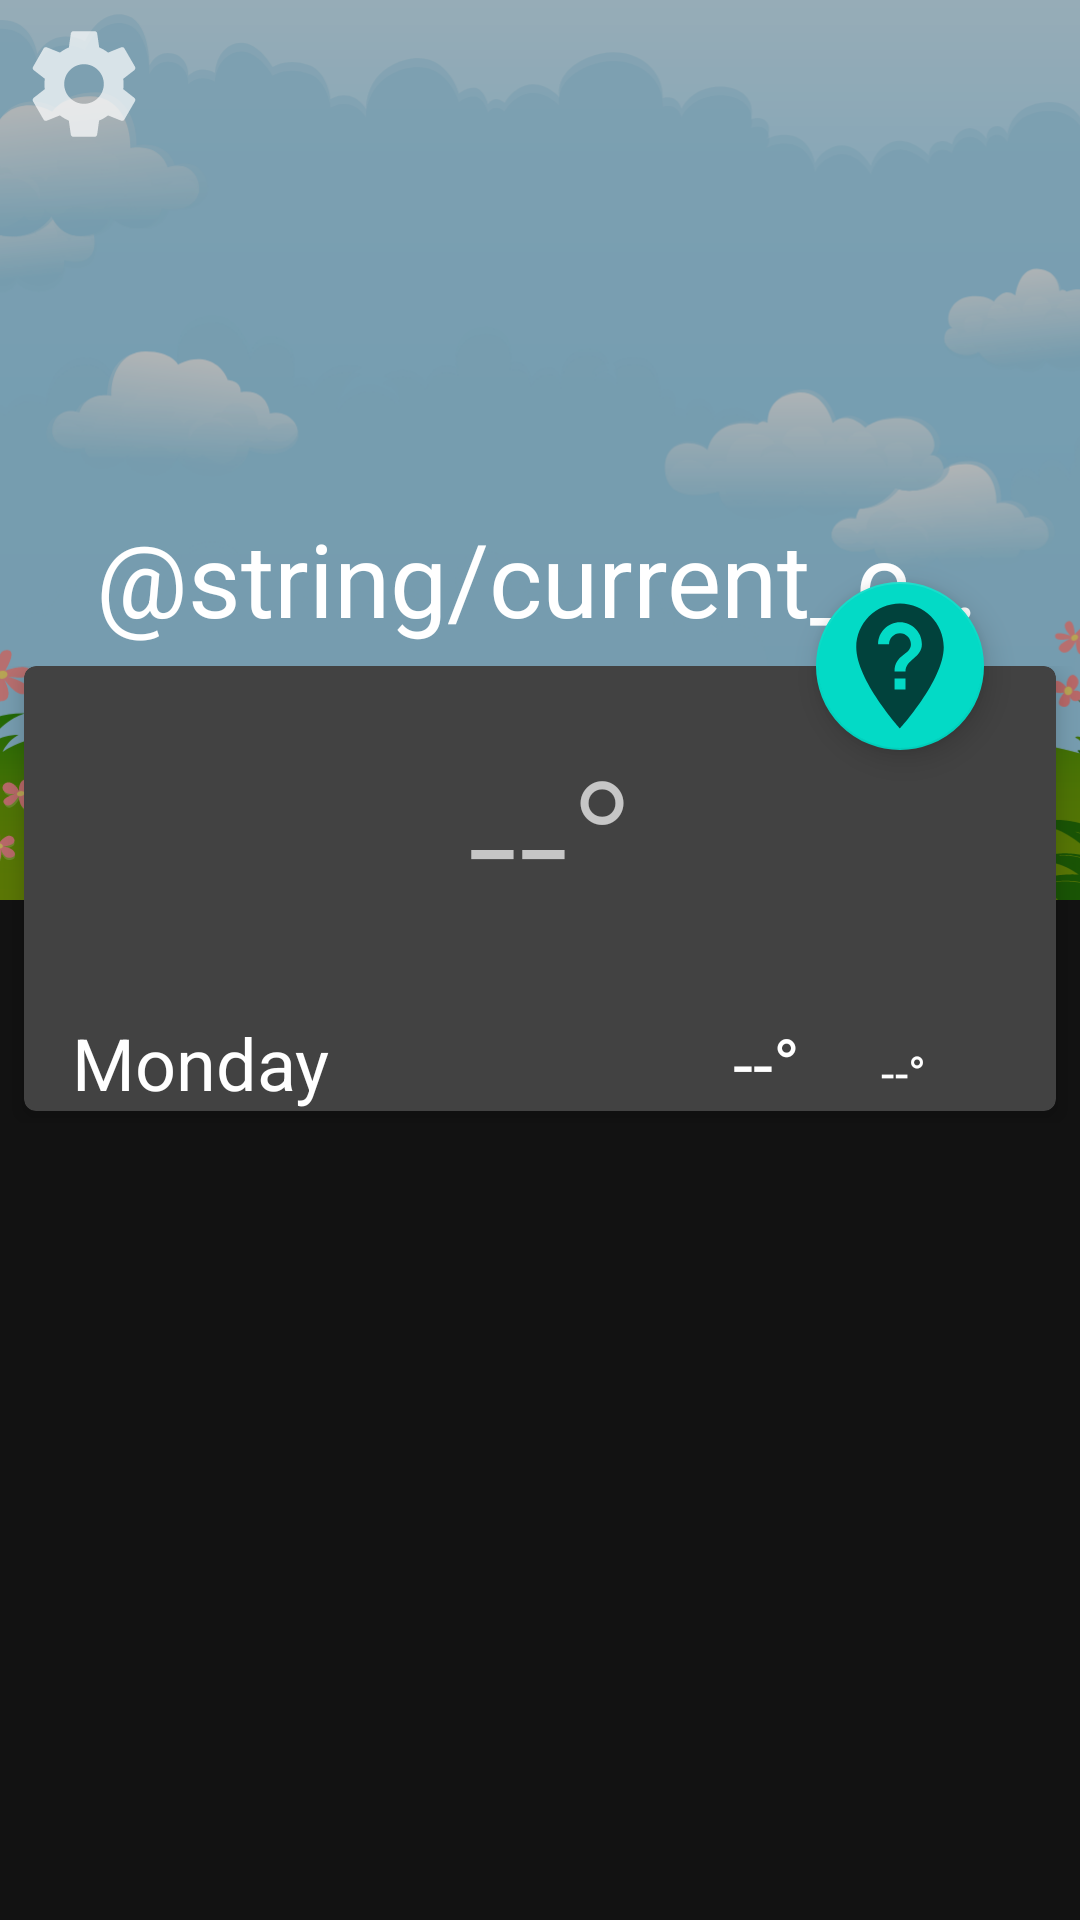

Named icons in this screenshot (1080 × 1920) and their centers, (x=x, y=y):
not listed location: (x=900, y=666)
